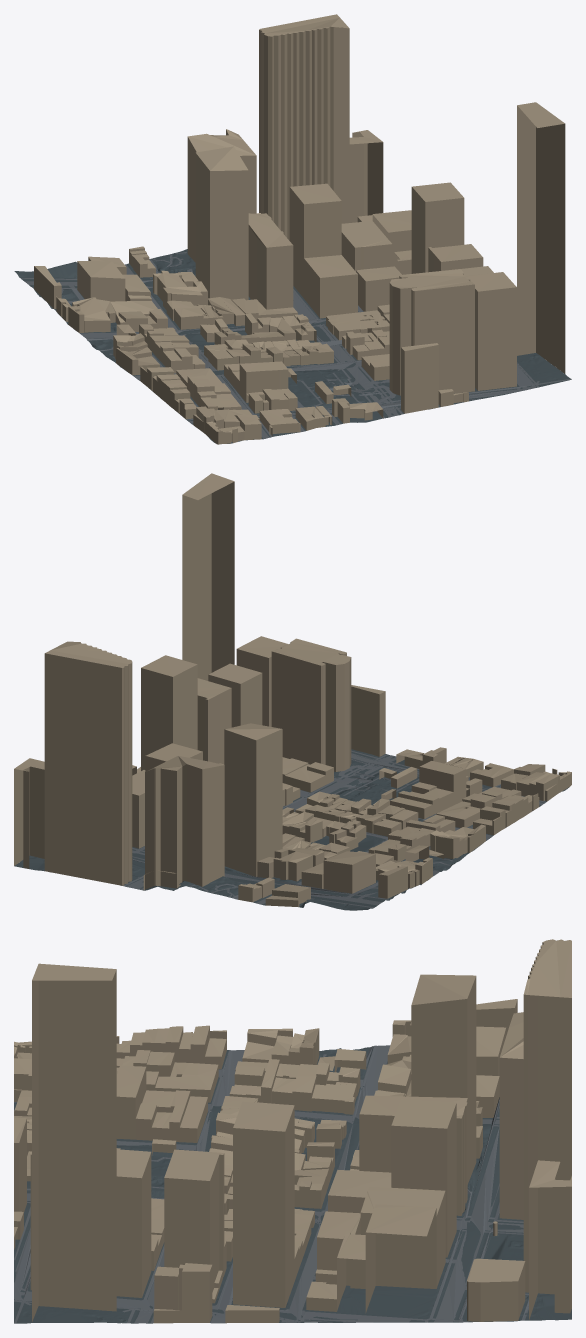
Rendered from epsg26910-1438-10893.lod0.glb.
3 renders of one model, top to bottom at view 1: azimuth 30°, elevation 25°; view 2: azimuth 150°, elevation 25°; view 3: azimuth 270°, elevation 25°, orthographic. The views are drawn at different scales.
Visible parts, largest first — view 1: epsg26910-1438-10893-lod0; view 2: epsg26910-1438-10893-lod0; view 3: epsg26910-1438-10893-lod0.
Boxes of the visible parts, x1,y1,x2,y2 form: epsg26910-1438-10893-lod0: [14, 14, 571, 444]; epsg26910-1438-10893-lod0: [14, 473, 571, 910]; epsg26910-1438-10893-lod0: [14, 939, 571, 1323].
Size of the model in its own units: 384 by 261 by 384.
